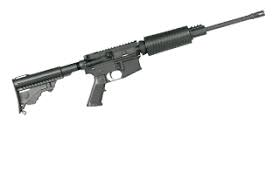Gun: (13, 6, 268, 124)
